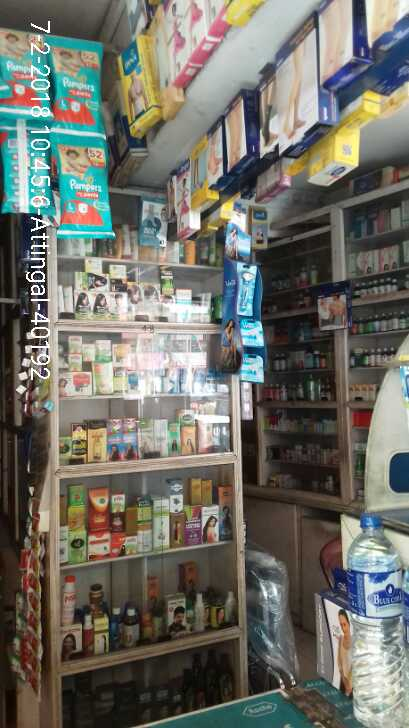beauty: (231, 355, 278, 389), (236, 269, 258, 320), (239, 323, 272, 352)
pharmacy: (50, 133, 119, 243), (47, 37, 106, 130), (1, 33, 45, 106)
